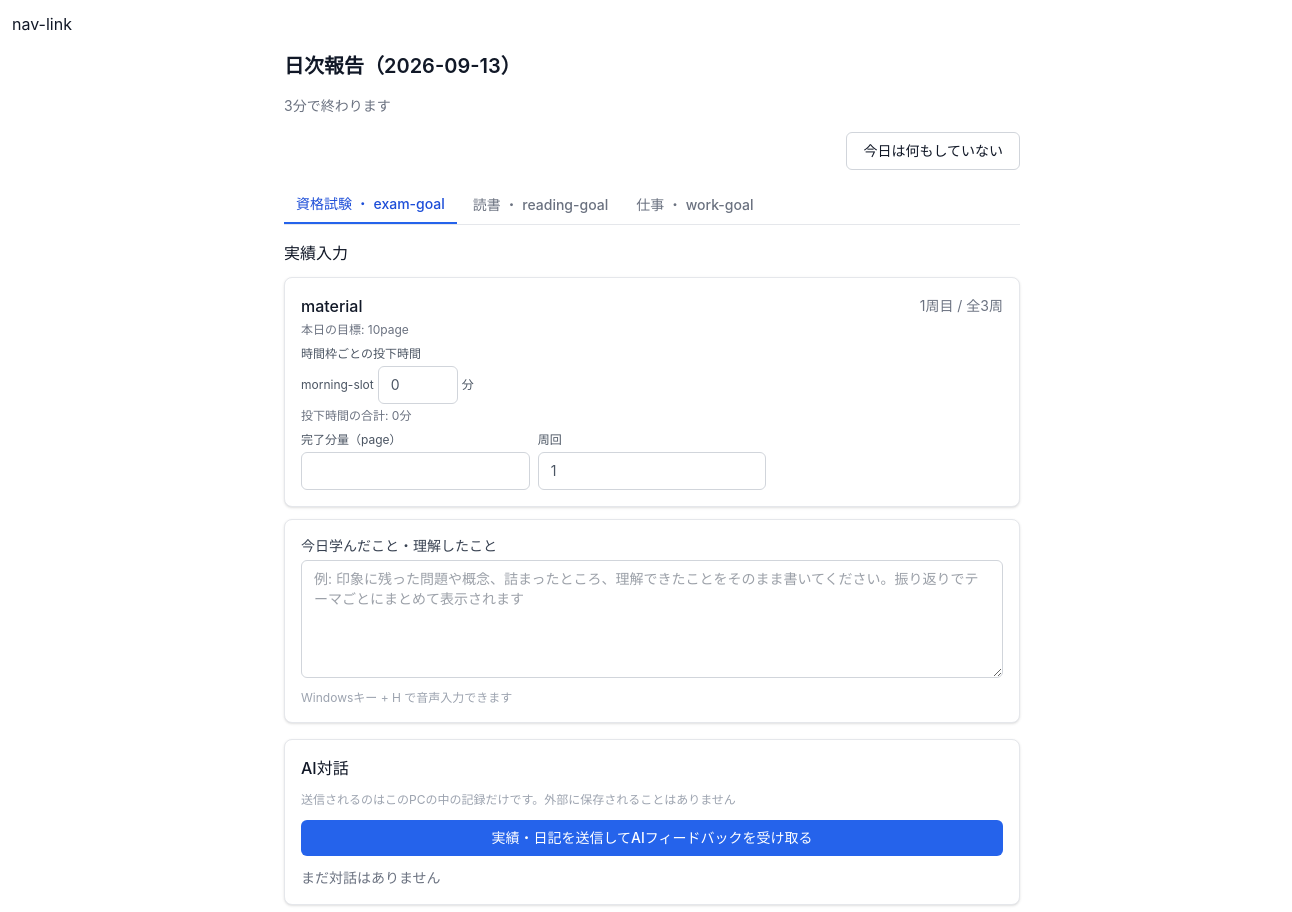
Test: DailyReportPage › keeps drafts of goals that are not currently selected
Type "draft-exam" into the text box labelled "今日学んだこと・理解したこと" at [652, 619], box top-left (301, 560), bottom-right (1003, 678)
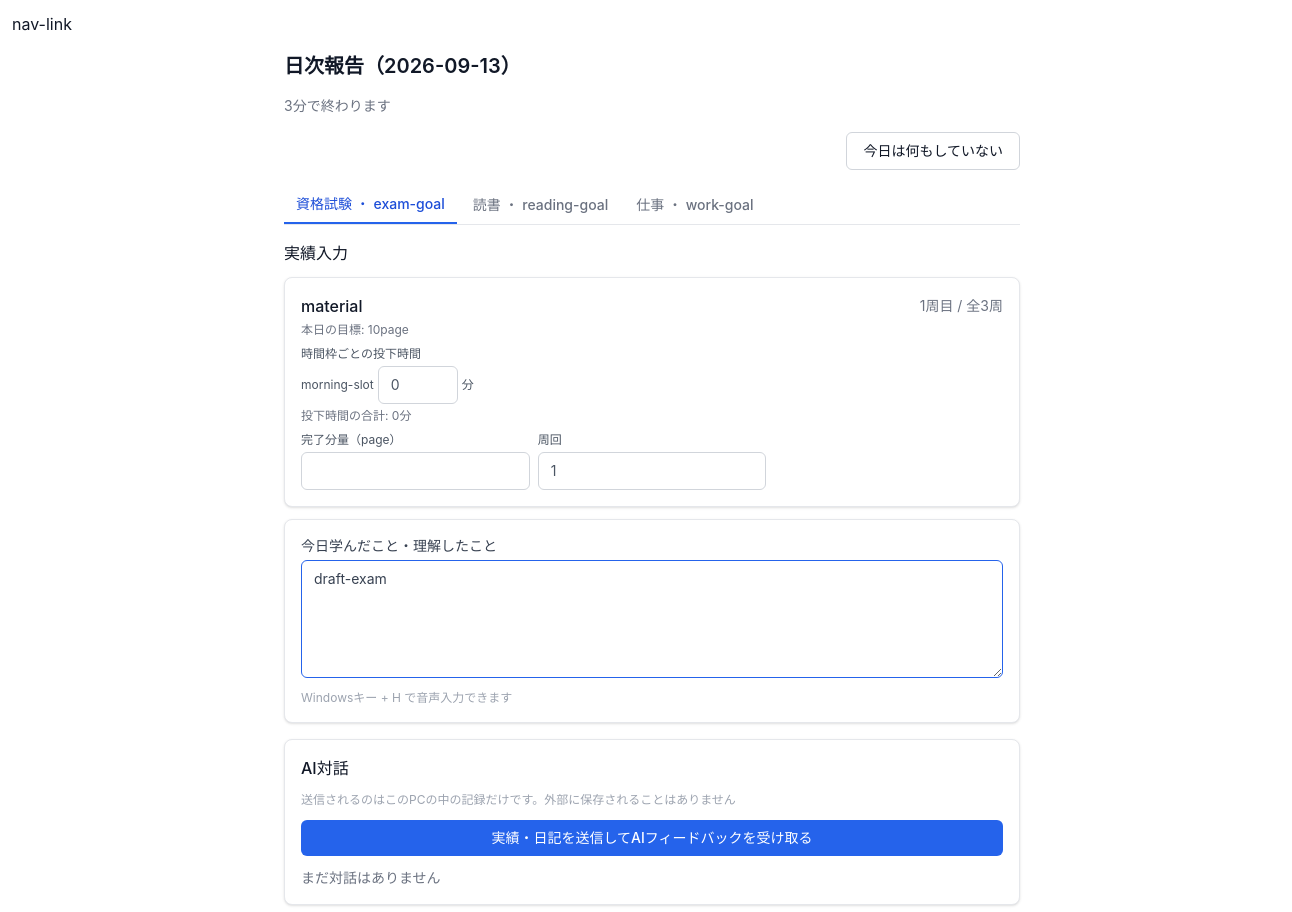
Click the button "読書 ・ reading-goal" at [540, 205], box top-left (461, 186), bottom-right (620, 224)
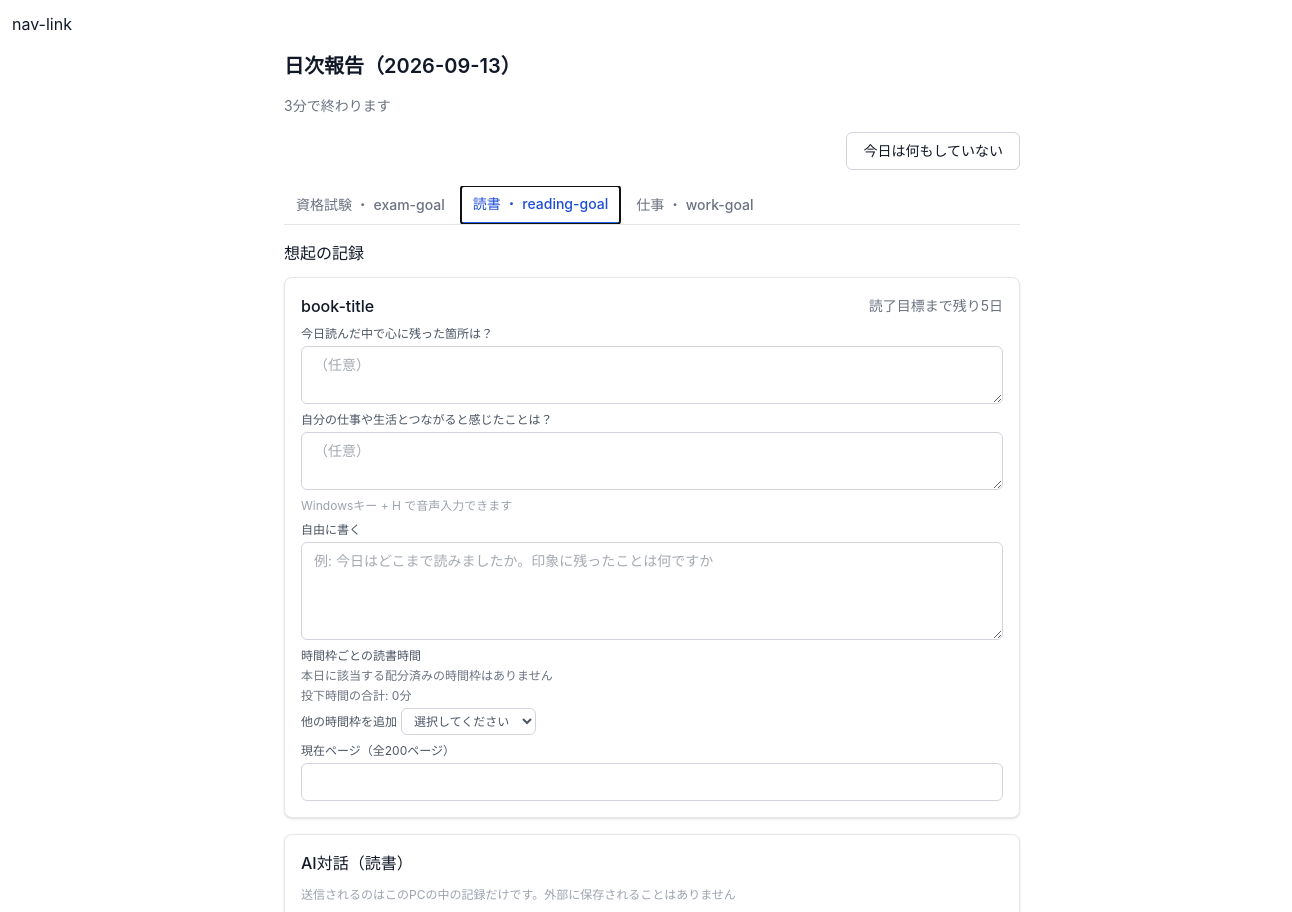
Type "draft-reading" into the text box labelled "自由に書く" at [652, 591], box top-left (301, 542), bottom-right (1003, 640)
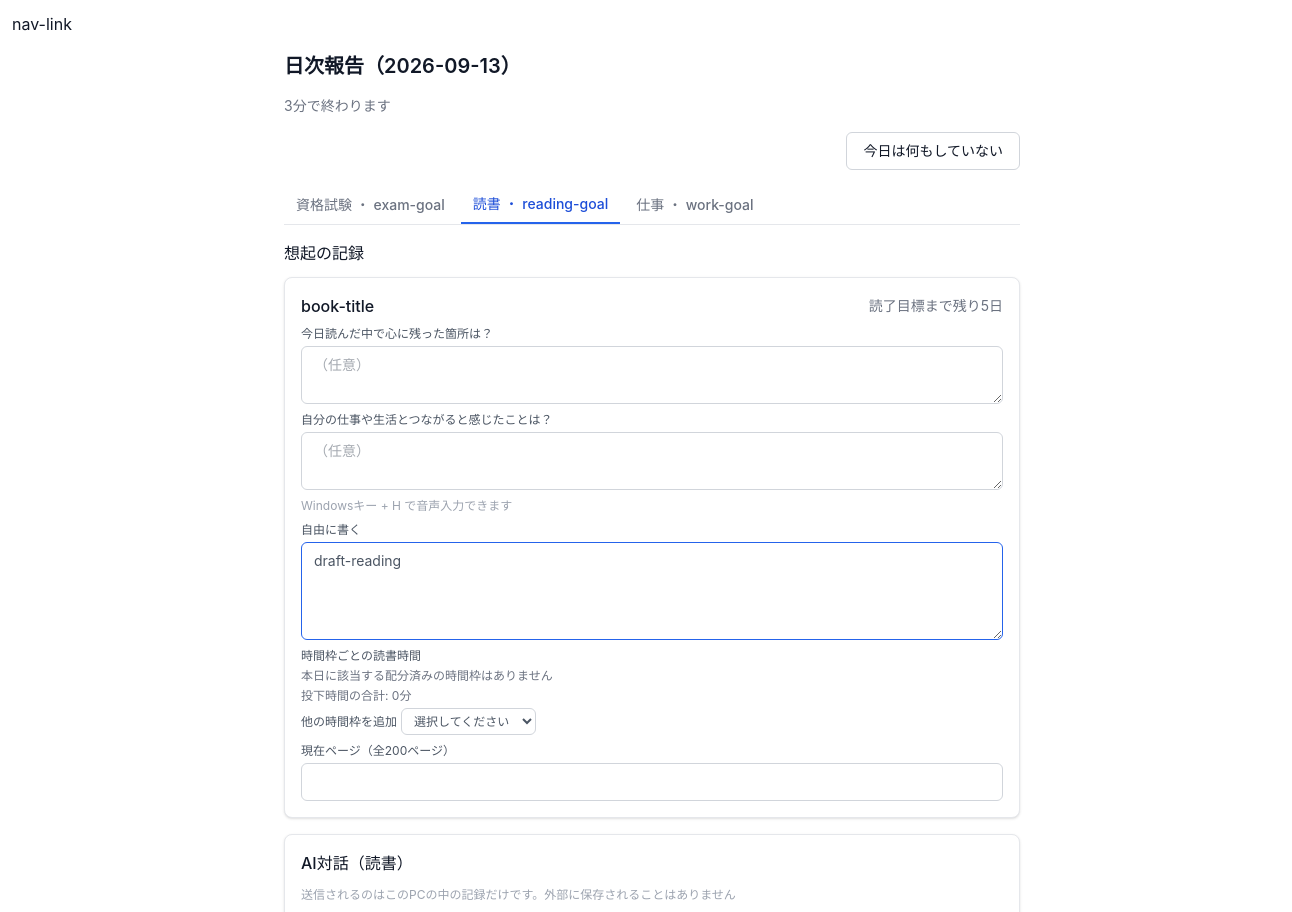
// 資格試験タブへ戻しても入力は保持されている（全目標分をローカル保持しているため）。
Click the button "資格試験 ・ exam-goal" at [370, 205], box top-left (284, 186), bottom-right (457, 224)
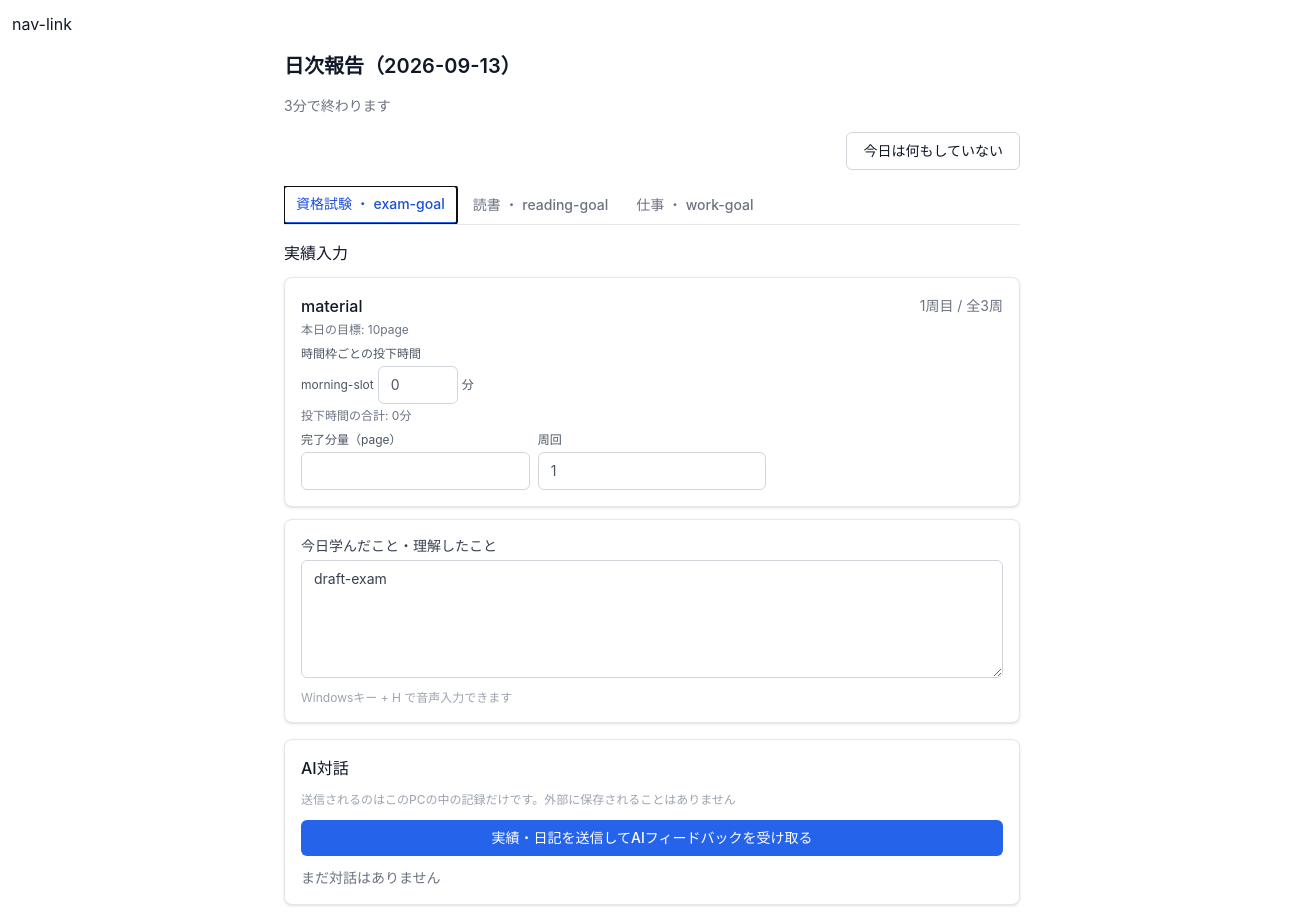
expect the text box labelled "今日学んだこと・理解したこと" holds "draft-exam": met, box top-left (301, 560), bottom-right (1003, 678)
Click the button "読書 ・ reading-goal" at [540, 205], box top-left (461, 186), bottom-right (620, 224)
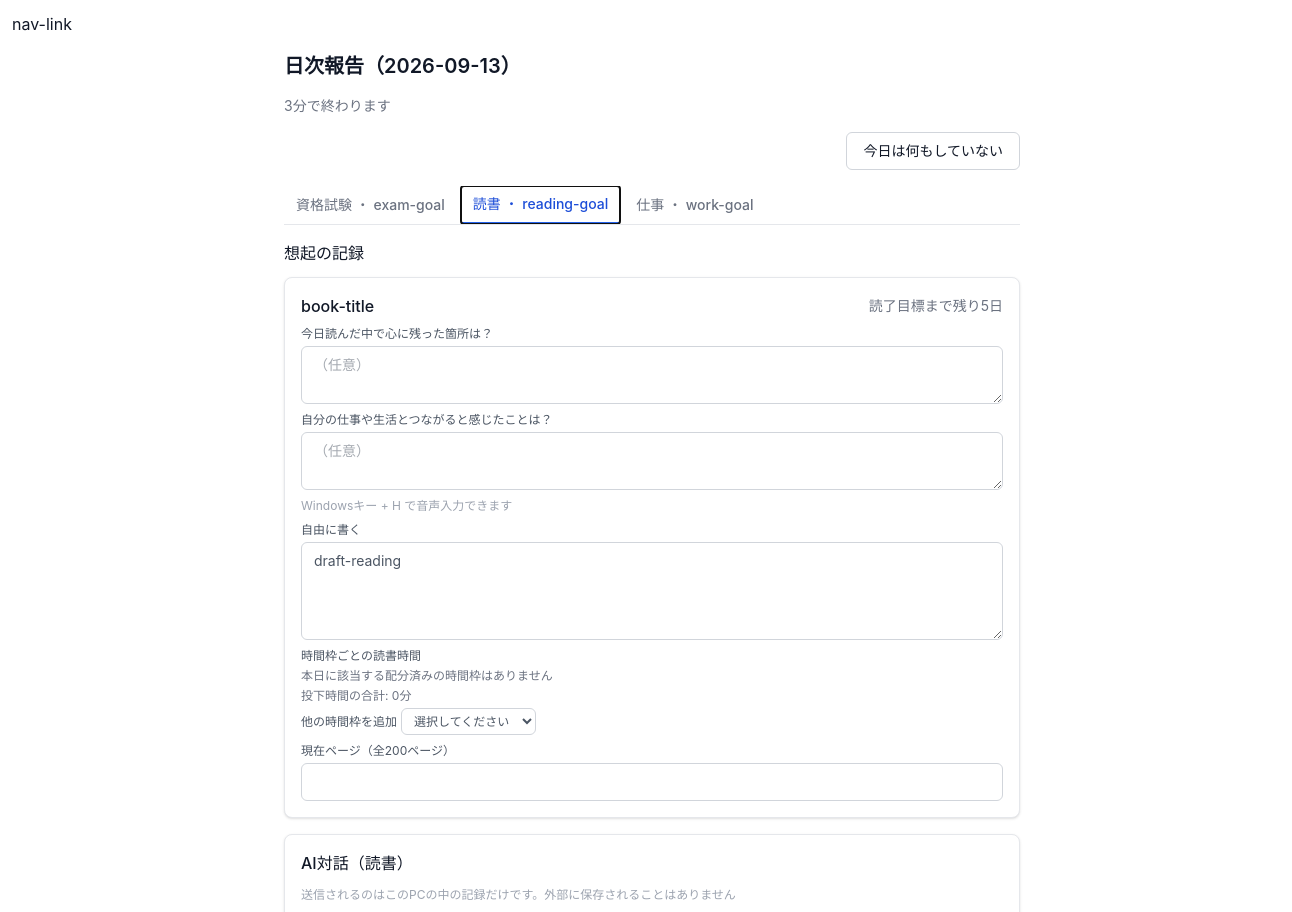
expect the text box labelled "自由に書く" holds "draft-reading": met, box top-left (301, 542), bottom-right (1003, 640)
